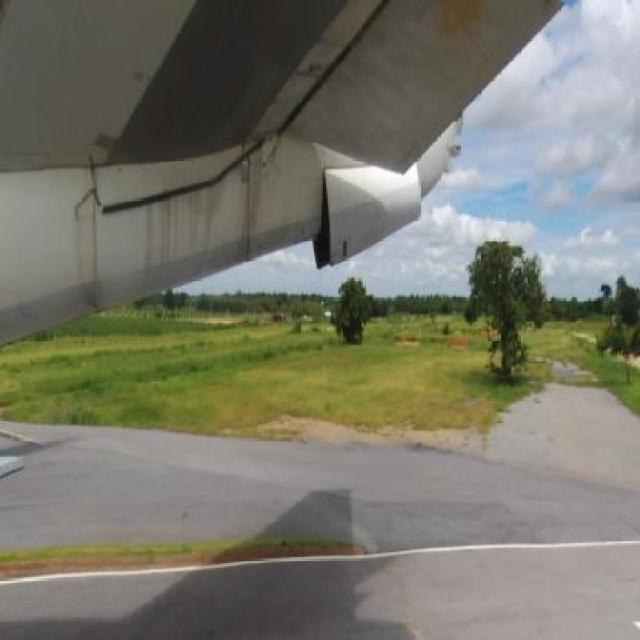Rust: (144, 171, 233, 284), (413, 1, 510, 72), (67, 179, 111, 324), (240, 141, 274, 265), (9, 282, 40, 331)
